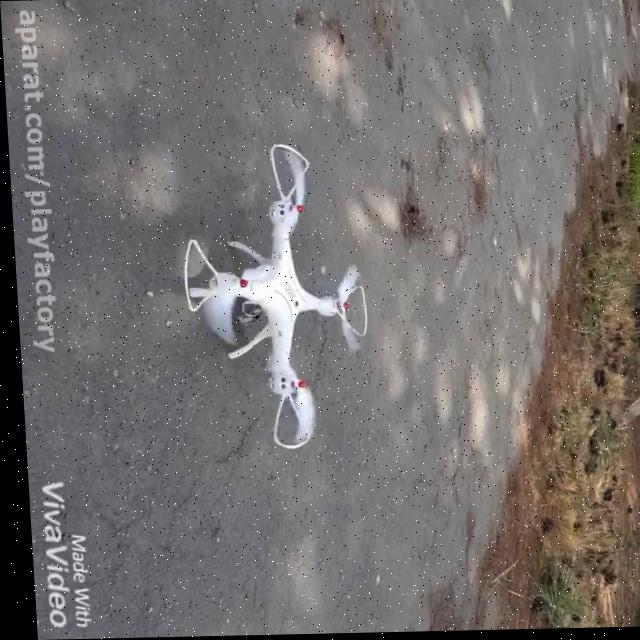drone: (170, 139, 374, 454)
